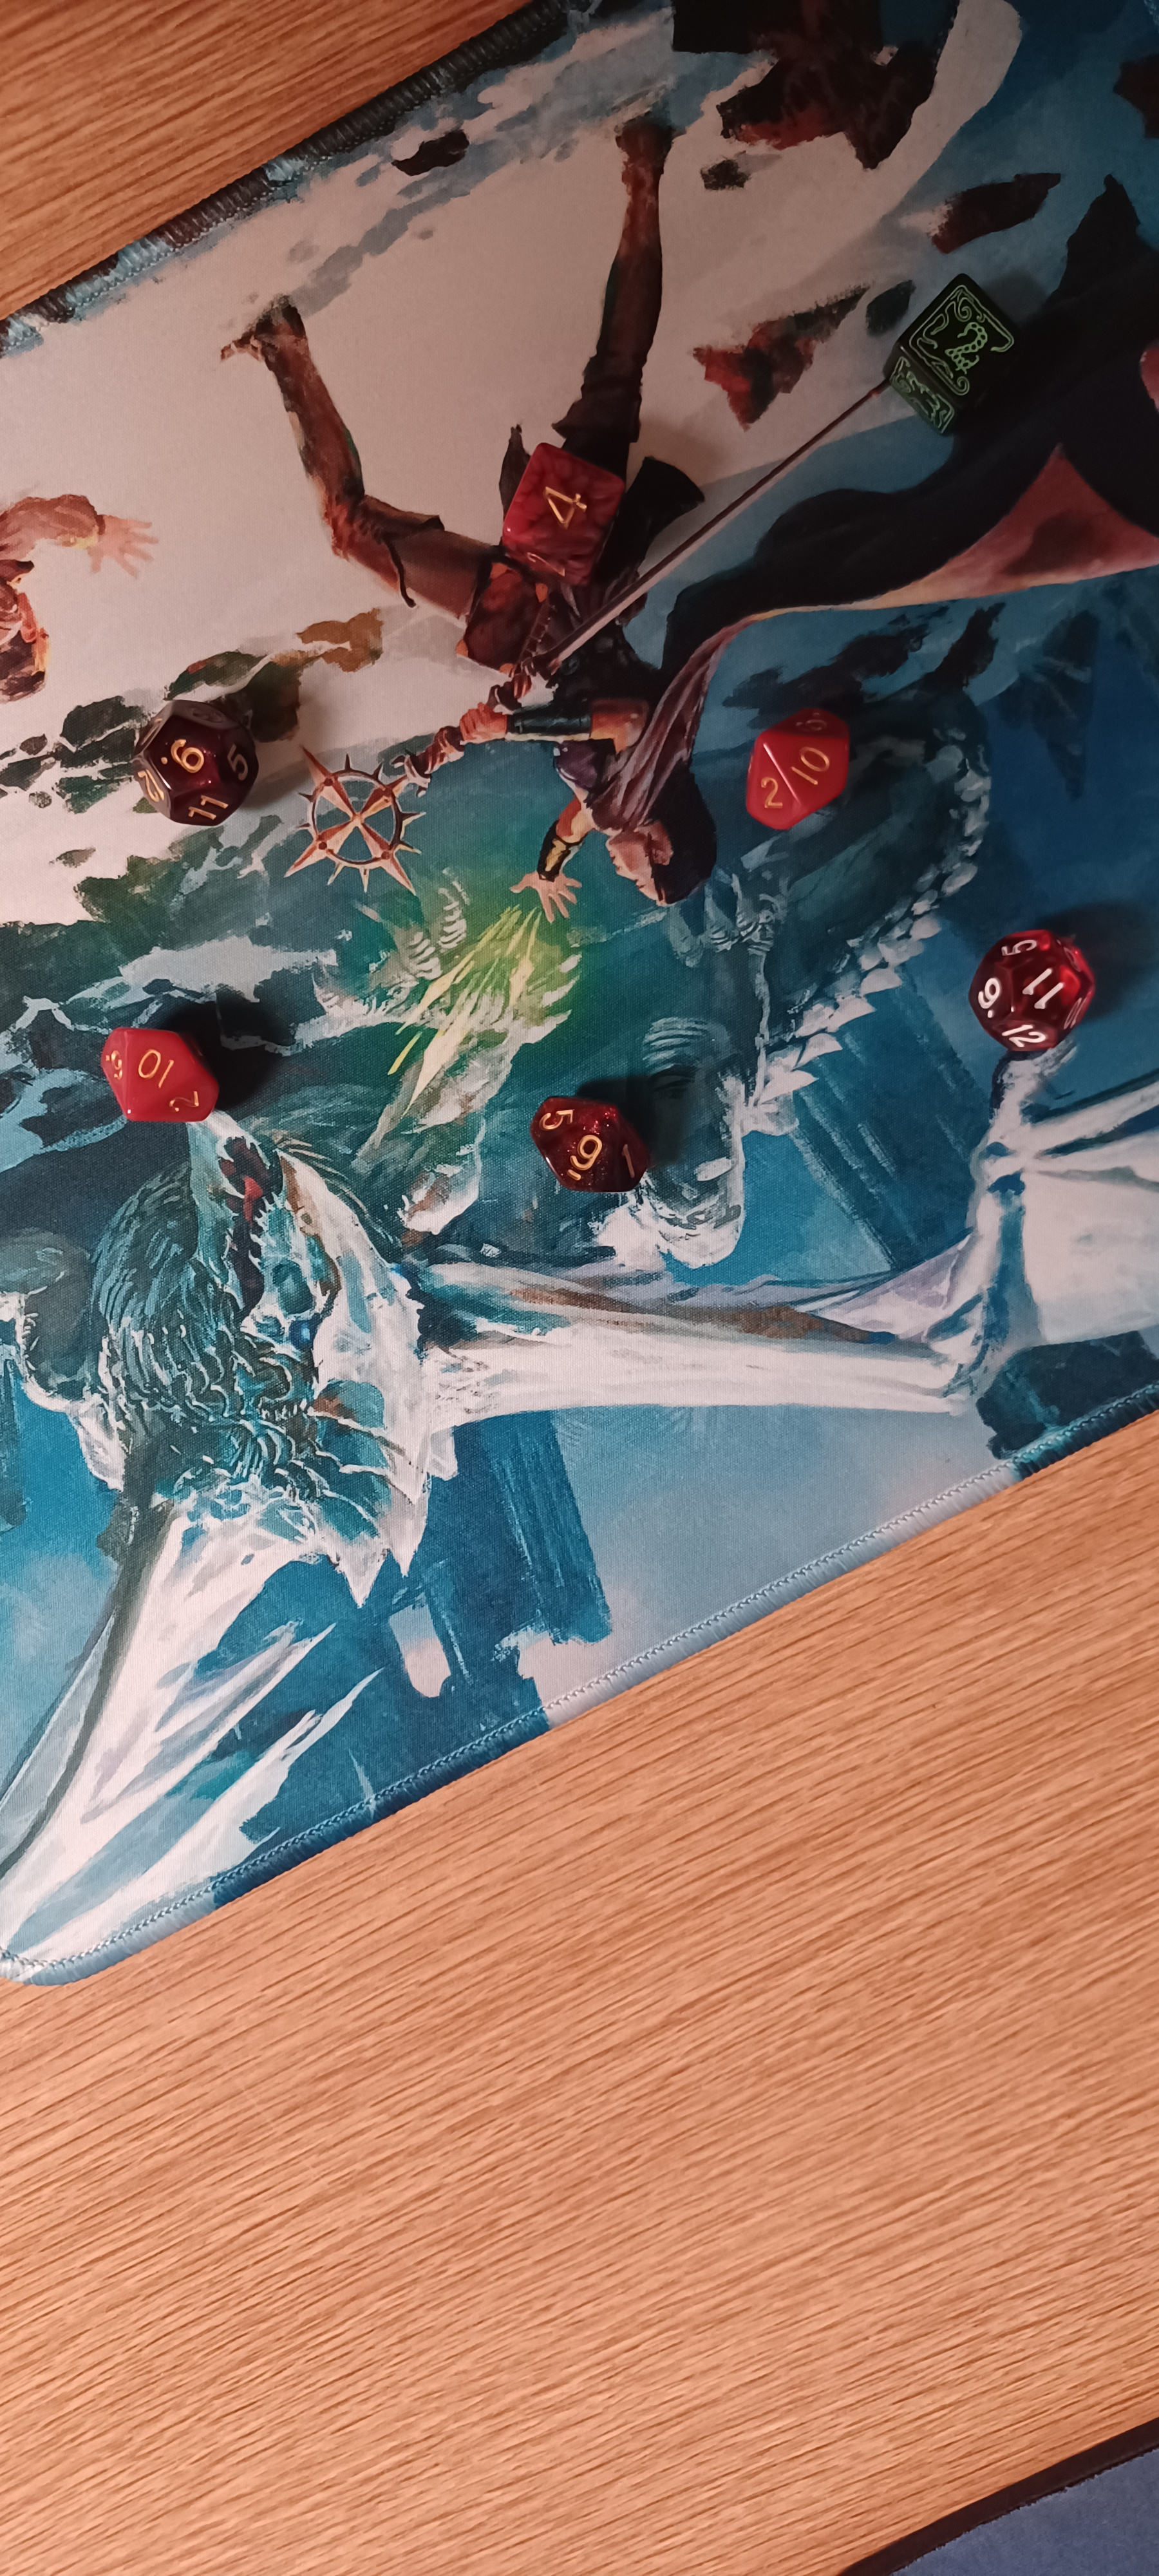eleven: (947, 907, 1133, 1058)
four: (470, 402, 657, 600)
nine: (105, 680, 287, 867), (502, 1058, 667, 1212)
ten: (696, 693, 908, 856), (71, 1007, 233, 1153)
two: (860, 256, 1057, 442)
